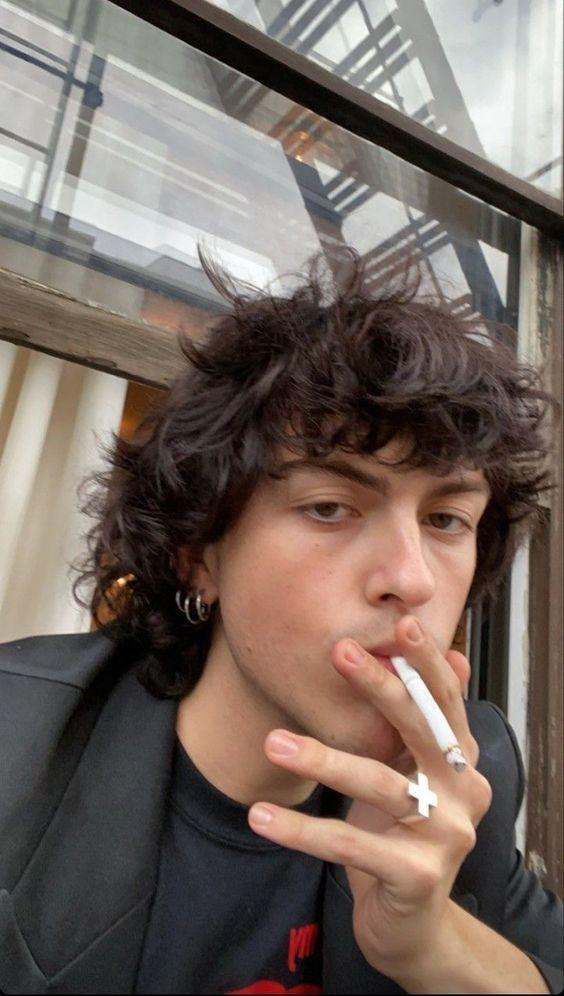cigarette: (390, 652, 472, 775)
